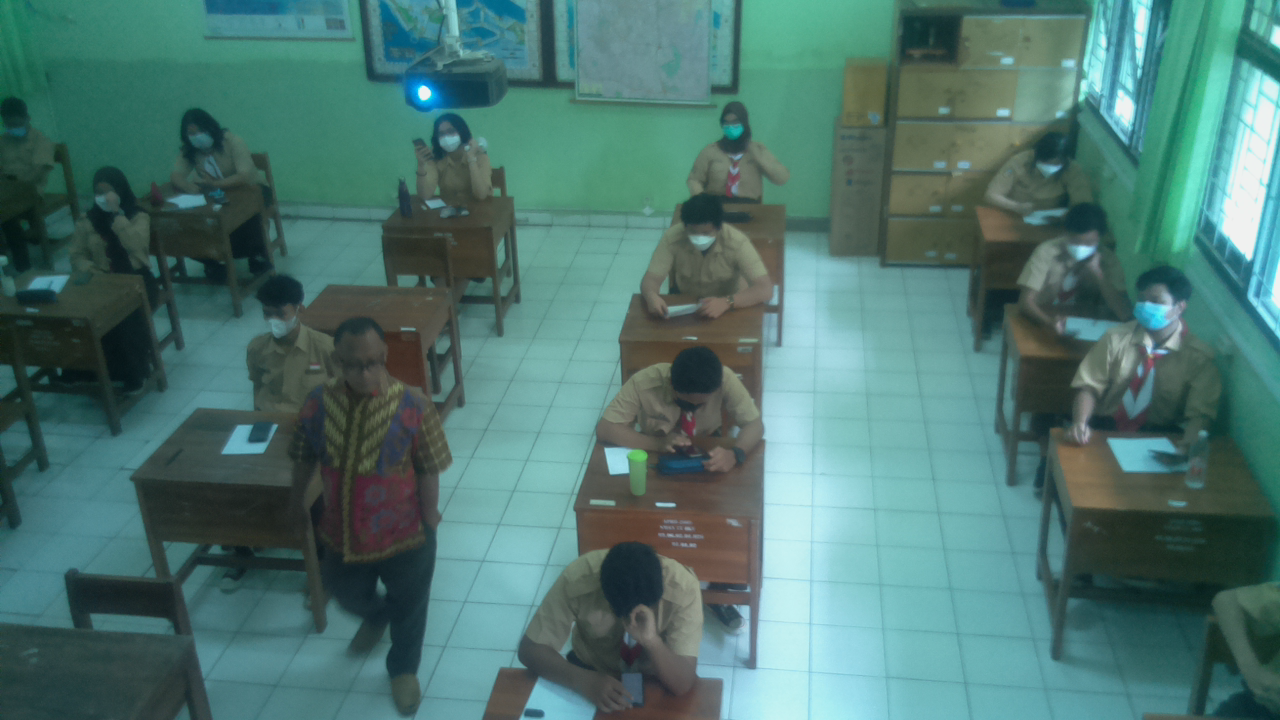Student: (309, 323, 444, 530), (1091, 265, 1225, 429), (555, 541, 701, 683), (623, 347, 749, 445), (655, 199, 769, 302), (247, 269, 330, 402), (1033, 207, 1123, 304), (695, 103, 778, 204), (77, 167, 153, 270), (991, 129, 1085, 209), (411, 115, 494, 202), (181, 109, 255, 185), (0, 107, 53, 182)
